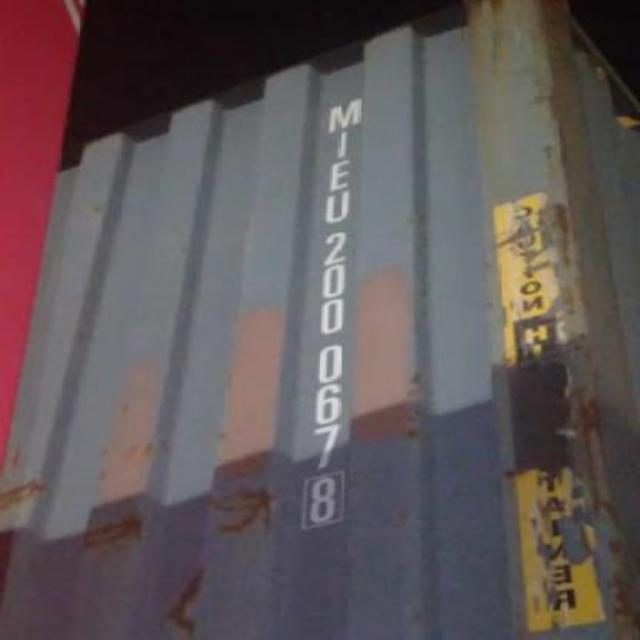0: (316, 296, 358, 340), (314, 264, 358, 298), (314, 339, 346, 383)
2: (322, 226, 350, 268)
6: (312, 383, 348, 423)
7: (311, 424, 344, 466)
8: (298, 474, 356, 528)
E: (328, 160, 362, 190)
I: (330, 127, 356, 159)
M: (318, 94, 376, 132)
U: (320, 188, 366, 224)
